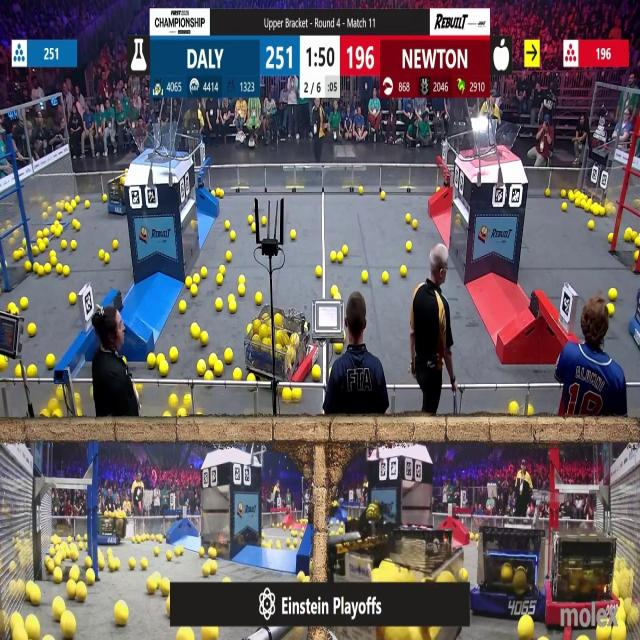ball_airborne: (429, 626, 439, 640)
ball_ground: (114, 600, 127, 625), (31, 587, 41, 606), (76, 584, 86, 602), (162, 579, 172, 597), (312, 364, 322, 380), (170, 347, 179, 363), (160, 362, 170, 376), (54, 568, 64, 582), (87, 569, 96, 584), (510, 402, 519, 417), (214, 360, 222, 376), (45, 354, 54, 368), (190, 323, 198, 338), (224, 349, 232, 364), (292, 388, 300, 402), (201, 333, 209, 347), (148, 354, 156, 368), (203, 562, 211, 576), (198, 360, 206, 374), (28, 364, 37, 376), (28, 323, 36, 336), (0, 356, 7, 370), (606, 304, 614, 316), (235, 367, 243, 379), (170, 394, 178, 406), (608, 288, 616, 300), (209, 548, 217, 559), (296, 571, 304, 582), (190, 284, 197, 296), (69, 292, 76, 304), (14, 364, 21, 376), (215, 300, 222, 312), (178, 408, 186, 418), (255, 291, 261, 304), (211, 561, 217, 574), (382, 273, 389, 284), (316, 267, 323, 278), (141, 558, 148, 569), (230, 303, 237, 314), (130, 558, 137, 569), (180, 302, 186, 314), (528, 406, 534, 418), (184, 276, 190, 288), (400, 266, 406, 278), (55, 410, 63, 419), (50, 251, 56, 263), (239, 285, 246, 295), (216, 275, 223, 285), (406, 242, 413, 252), (63, 267, 70, 277), (336, 344, 343, 354), (592, 205, 599, 215), (98, 558, 105, 568), (361, 272, 367, 283), (343, 245, 349, 256), (202, 268, 208, 279), (87, 556, 93, 567), (41, 410, 49, 418), (44, 266, 51, 275), (192, 276, 199, 285), (61, 241, 68, 250), (72, 294, 77, 306), (104, 253, 110, 263), (26, 263, 32, 273), (231, 232, 237, 242), (112, 240, 118, 250), (225, 251, 231, 261), (338, 252, 344, 262), (589, 220, 595, 230), (331, 285, 336, 297), (248, 375, 255, 383), (330, 251, 335, 262), (57, 266, 63, 275), (248, 215, 254, 224), (168, 553, 174, 562), (219, 266, 224, 276), (290, 231, 295, 241), (100, 250, 105, 260), (83, 202, 90, 209), (200, 549, 206, 557), (72, 553, 78, 561), (573, 200, 579, 208), (159, 354, 165, 362), (71, 241, 76, 250), (568, 191, 573, 200), (561, 189, 567, 196), (223, 576, 229, 583), (562, 204, 568, 211), (544, 187, 549, 195), (381, 191, 386, 199), (218, 189, 223, 197), (608, 234, 612, 243), (224, 220, 228, 228), (252, 223, 256, 231), (165, 413, 171, 418), (231, 231, 235, 238), (102, 198, 105, 202)
goal: (464, 122, 520, 159), (132, 132, 189, 159)
robot_blue: (473, 520, 546, 623), (105, 172, 126, 215), (97, 514, 127, 544)
robot_red: (550, 535, 616, 629), (245, 306, 314, 382)
